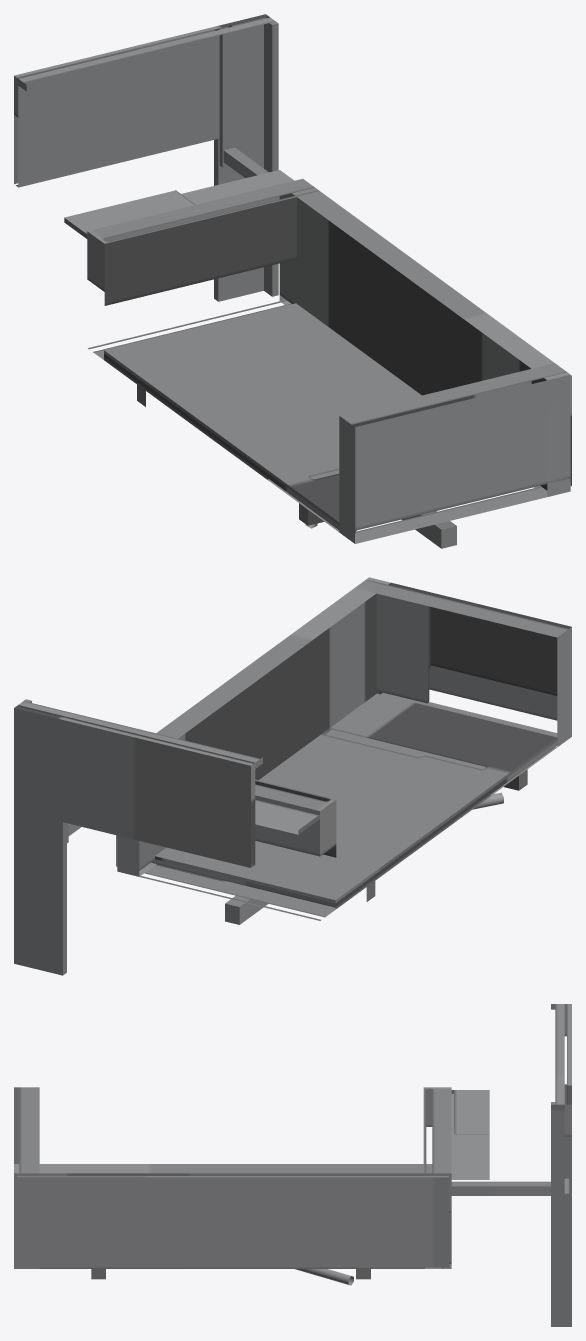
The picture shows the model from 3 angles, top to bottom: view 1: azimuth 30°, elevation 25°; view 2: azimuth 150°, elevation 25°; view 3: azimuth 270°, elevation 25°; orthographic projection. The views are drawn at different scales.
Bounding box in the file's own units: 0.97 × 1 × 2.28.
